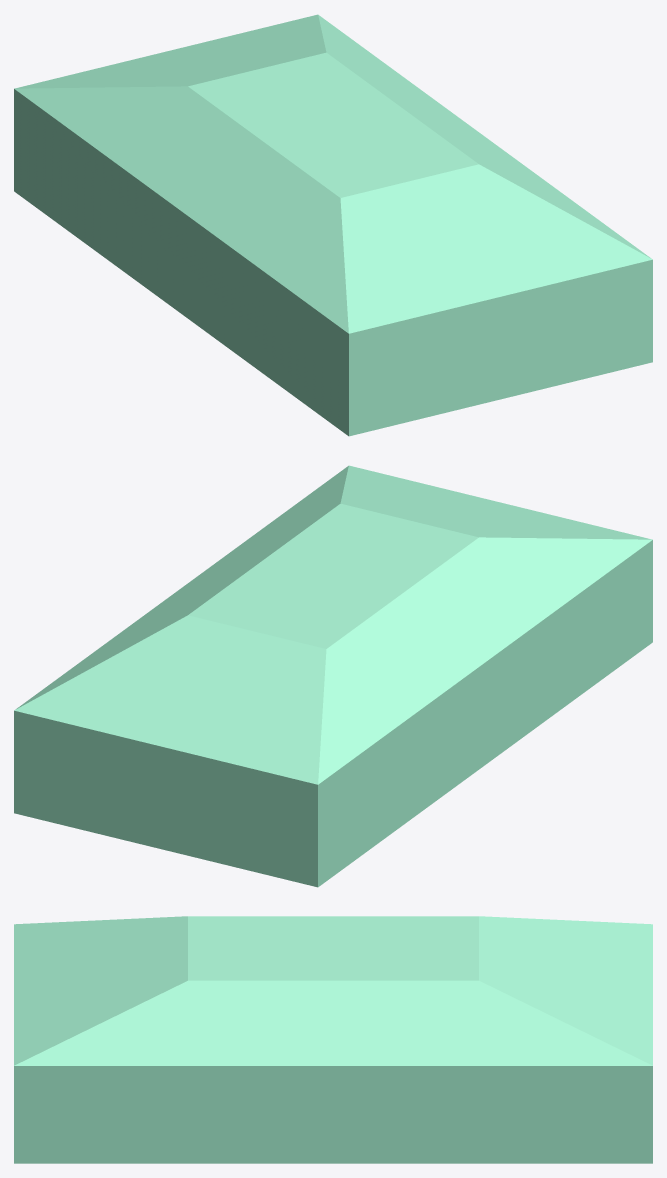
3 views of the same model, one above another, from view 1: azimuth 30°, elevation 25°; view 2: azimuth 150°, elevation 25°; view 3: azimuth 270°, elevation 25° (orthographic). The views are drawn at different scales.
Visible parts, largest first — view 1: Q-1; view 2: Q-1; view 3: Q-1.
Part boxes in pixels (x1,y1,x2,y2): Q-1: [14, 14, 652, 436]; Q-1: [14, 465, 652, 887]; Q-1: [14, 916, 652, 1163].
Size of the model in its own units: 34.57 by 16.46 by 65.95.
